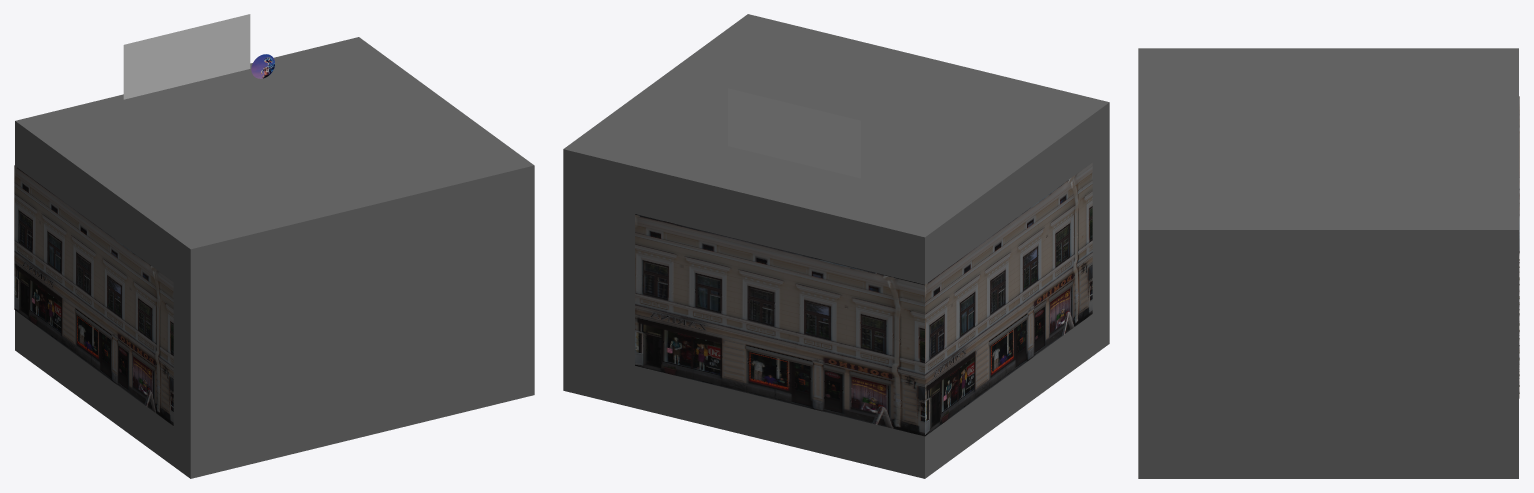
Rendered from TestScene.dae.
The picture shows the model from 3 angles, left to right: view 1: azimuth 30°, elevation 25°; view 2: azimuth 150°, elevation 25°; view 3: azimuth 270°, elevation 25°; orthographic projection. The views are drawn at different scales.
Visible parts, largest first — view 1: Approx_SceneApproximation, Mesh_BuildingL, Billboard_Cinmea; view 2: Approx_SceneApproximation, Mesh_BuildingR, Mesh_BuildingL, Billboard_Cinmea; view 3: Approx_SceneApproximation.
Boxes of the visible parts, x1,y1,x2,y2 form: Approx_SceneApproximation: (15, 37, 534, 478); Mesh_BuildingL: (14, 165, 173, 425); Billboard_Cinmea: (123, 14, 250, 99); Approx_SceneApproximation: (563, 14, 1109, 478); Mesh_BuildingR: (635, 214, 924, 436); Mesh_BuildingL: (925, 162, 1092, 436); Billboard_Cinmea: (728, 88, 860, 178); Approx_SceneApproximation: (1138, 48, 1518, 478).
Size of what is drawn, in the model's own units: 43.71 by 36.69 by 38.67.
